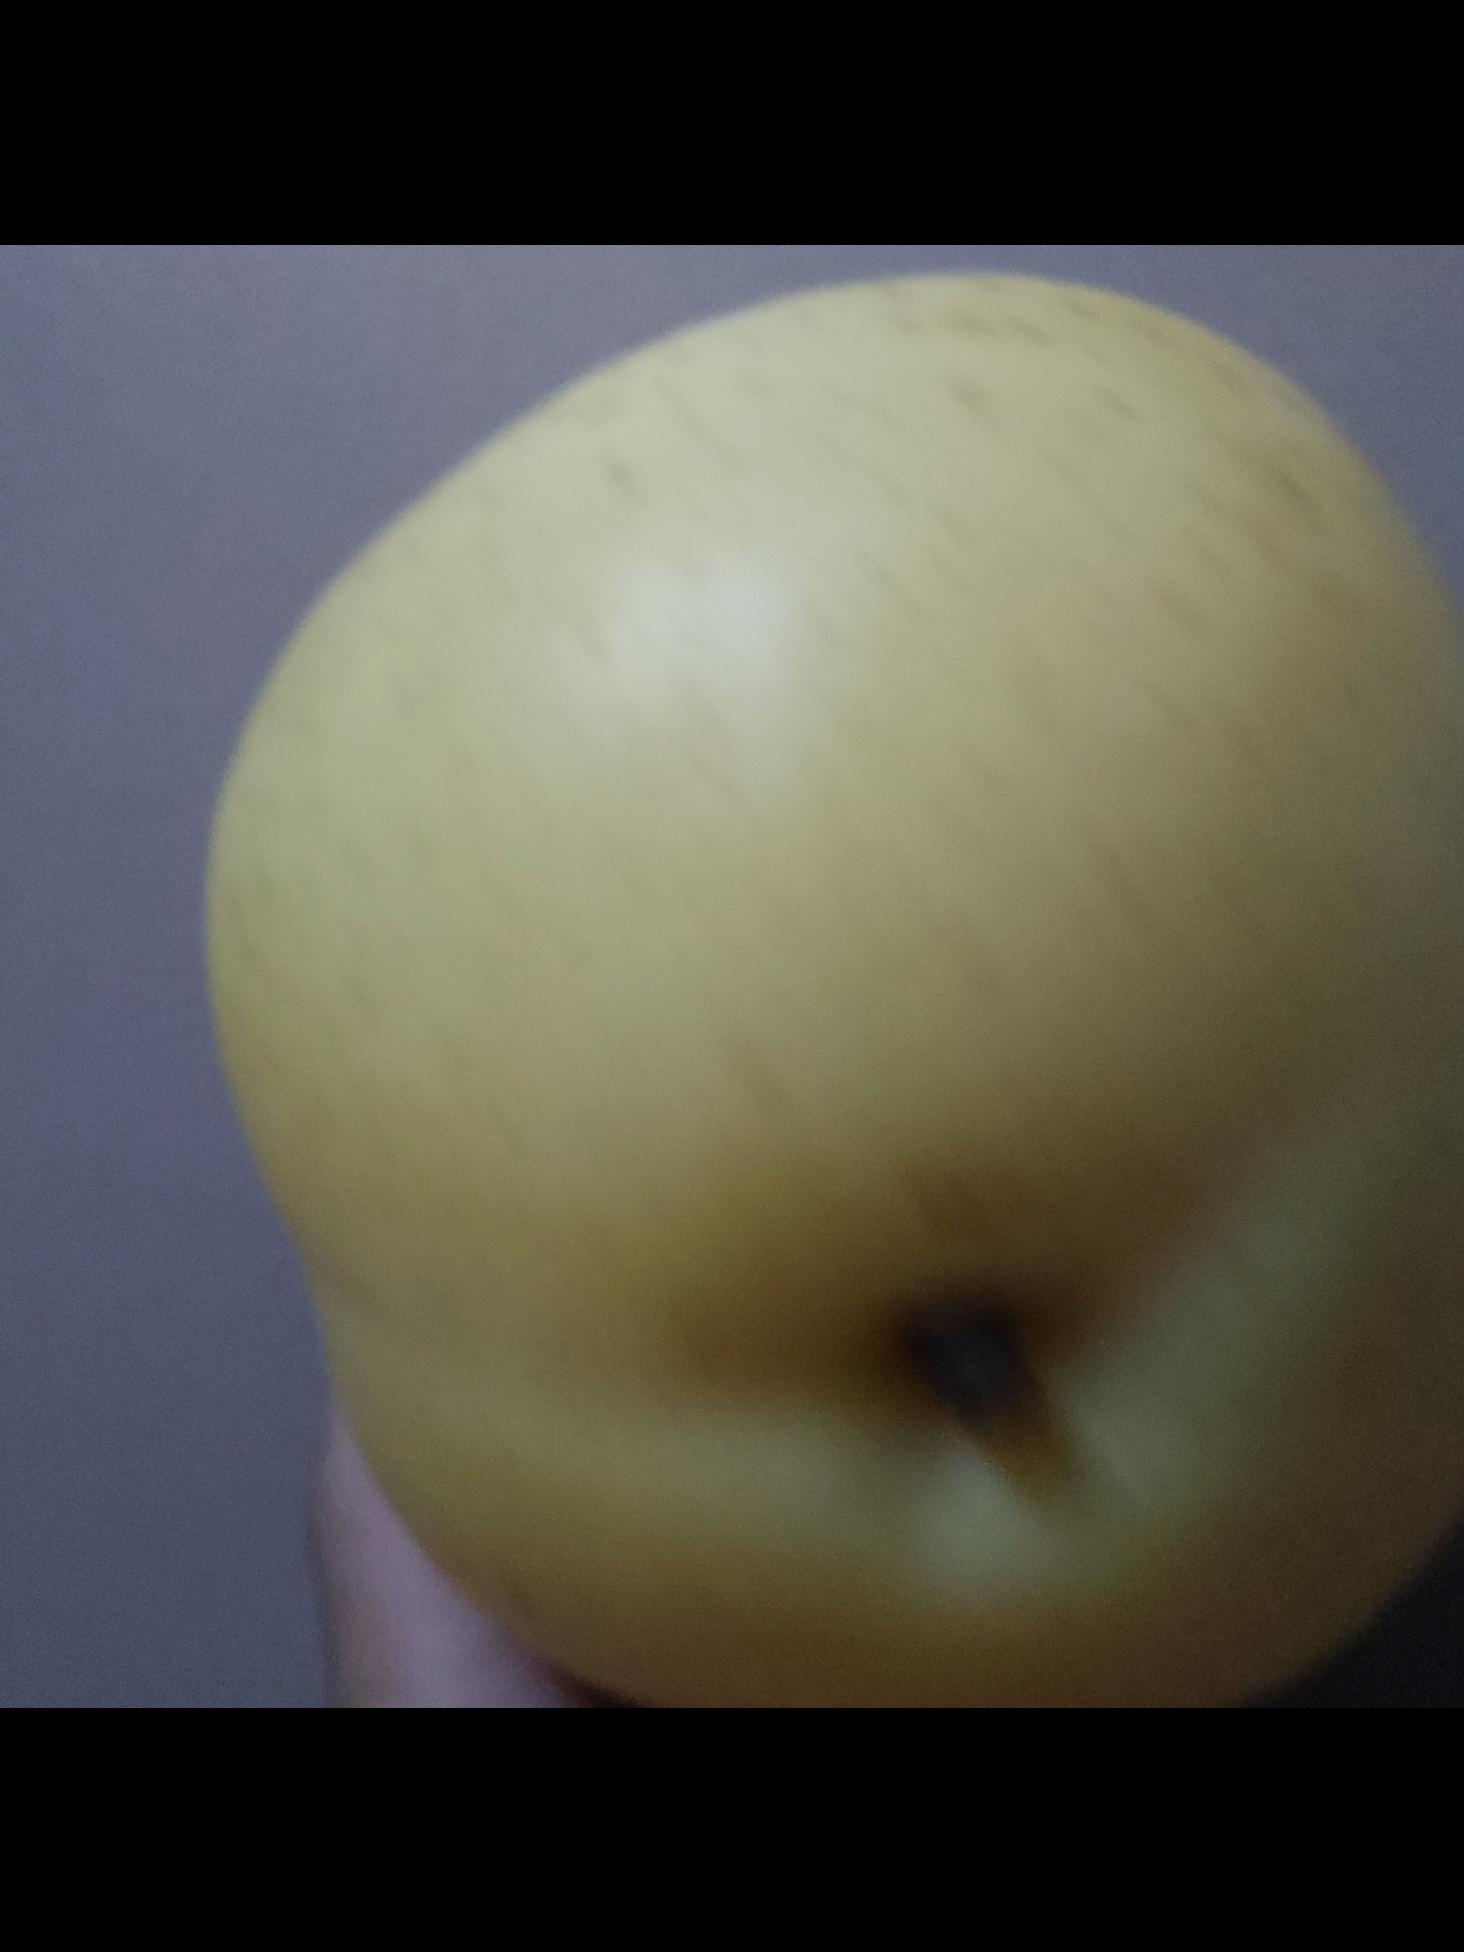Good Pear: (192, 258, 1464, 1708)
